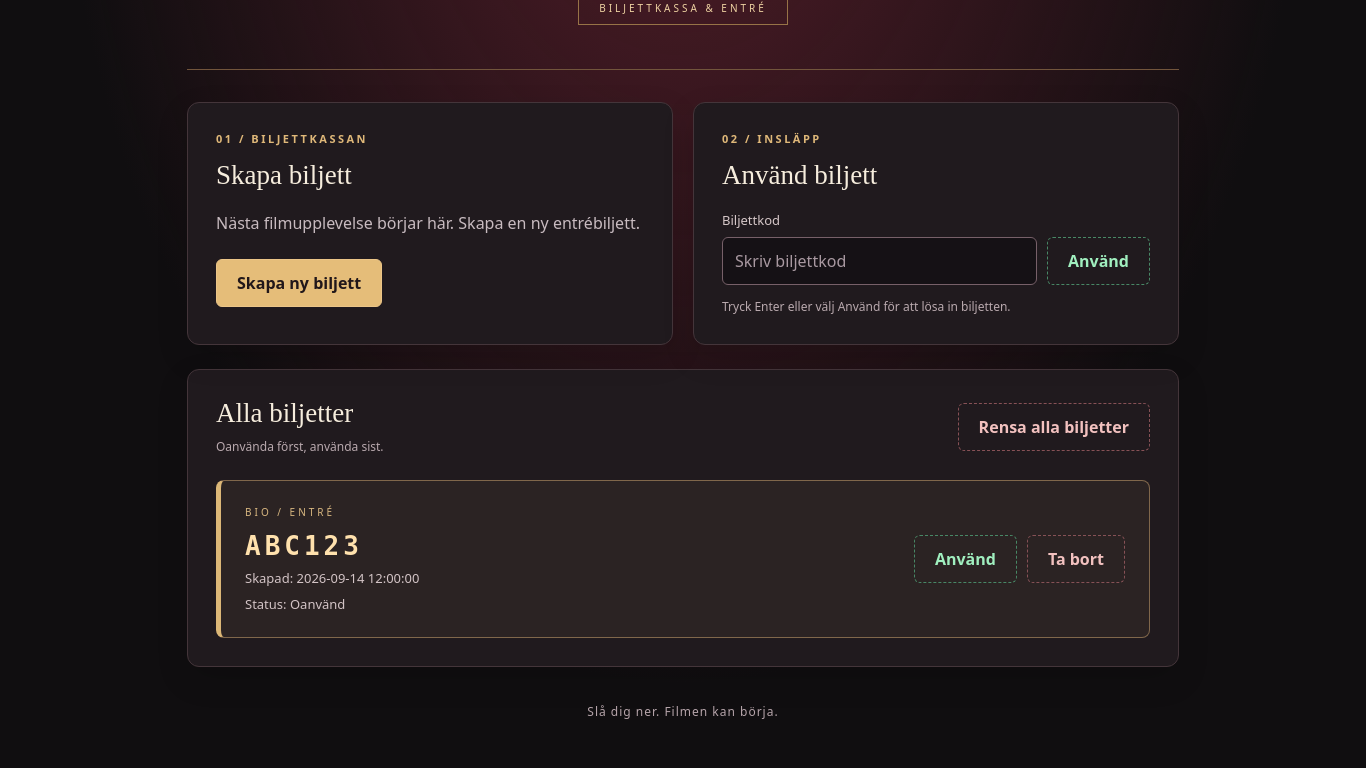
Test case: Ticket system › should keep a ticket and display the server error when deletion fails
(page scrolled)
Click the button "Ta bort" at (1076, 559), box x1=1027 y1=535 x2=1125 y2=583
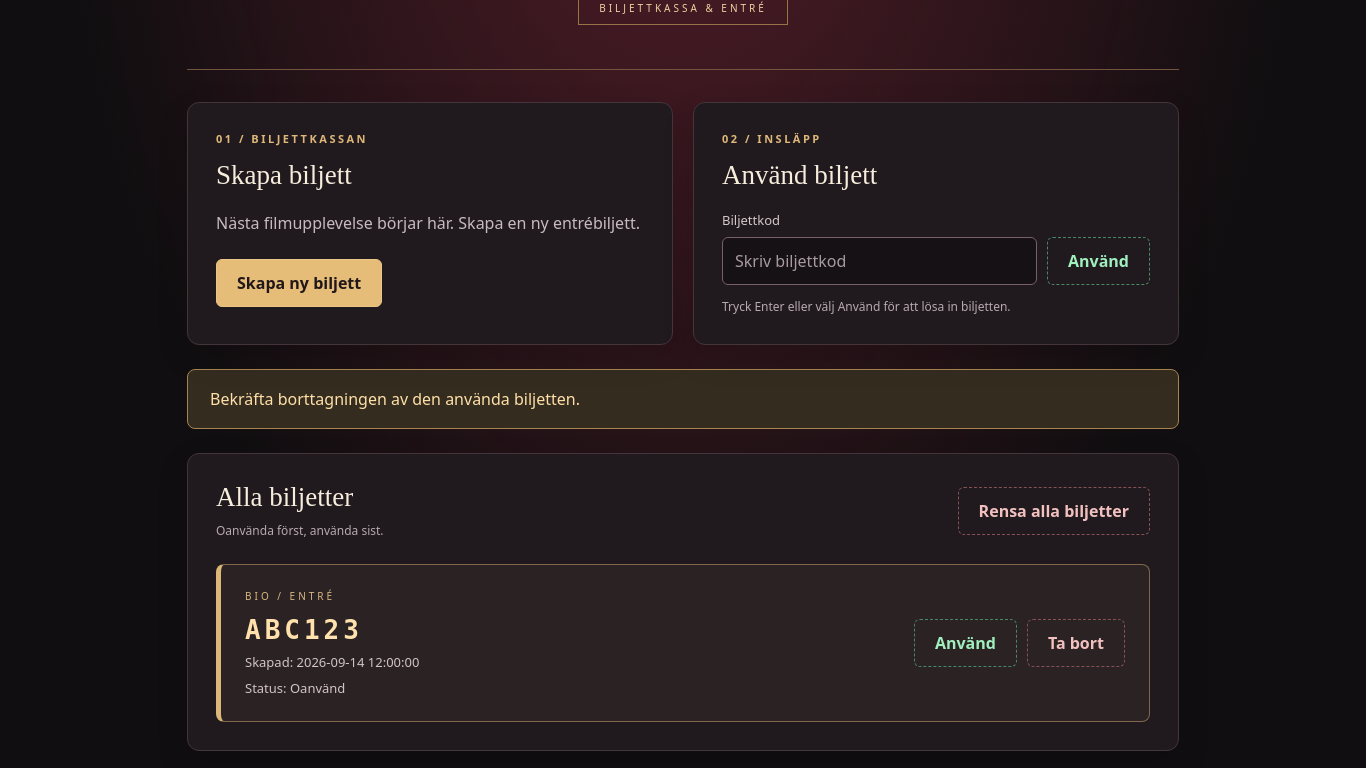
expect the text "ABC123" is shown: met, box x1=245 y1=615 x2=363 y2=645
expect the text "Bekräfta borttagningen av den använda biljetten." is shown: met, box x1=187 y1=369 x2=1179 y2=429
